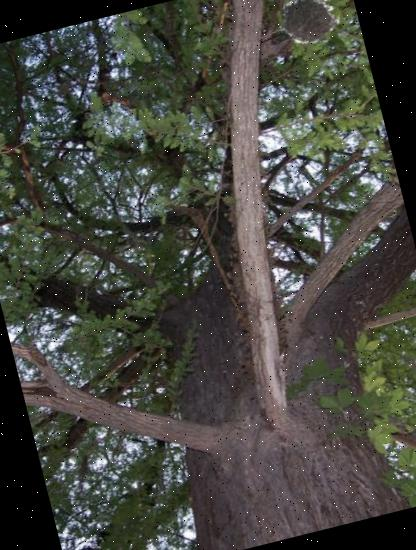Rambutan: (275, 0, 347, 58)
